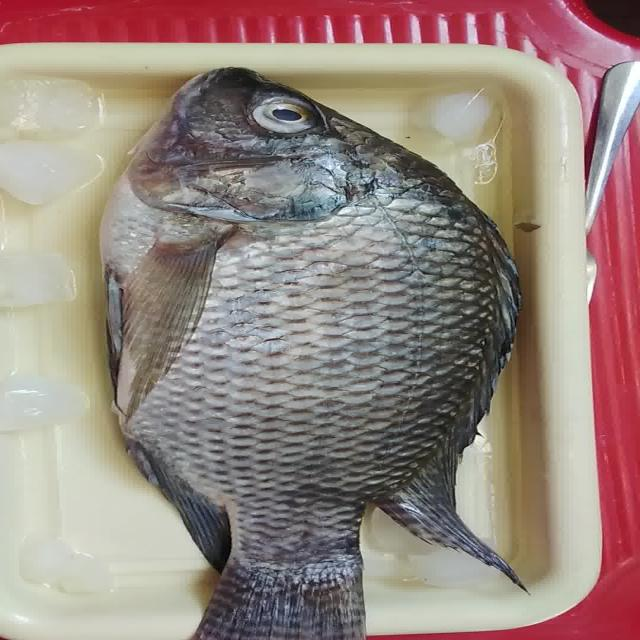Fresh: (53, 166, 639, 640), (229, 93, 350, 148)
